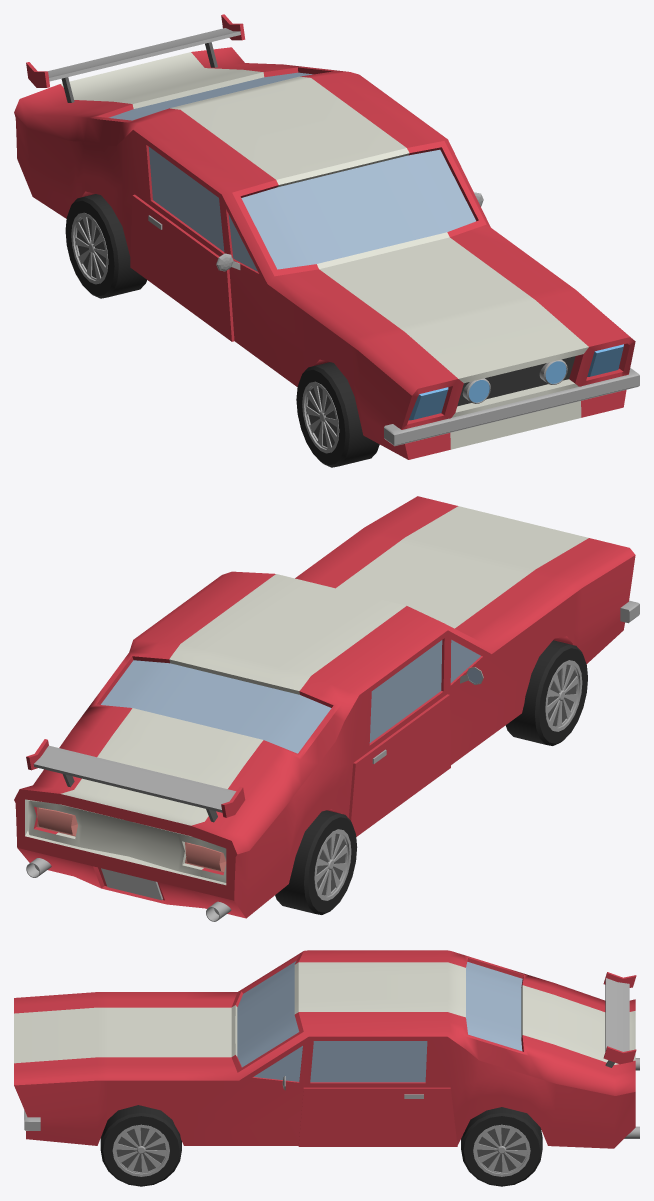
File: Car_01.fbx
The picture shows the model from 3 angles, top to bottom: view 1: azimuth 30°, elevation 25°; view 2: azimuth 150°, elevation 25°; view 3: azimuth 270°, elevation 25°; orthographic projection. The views are drawn at different scales.
Parts seen in each view (by area): view 1: Car_Merged, Tire_Front_Right, Tire_Back_Left1; view 2: Car_Merged, Tire_Back_Left1, Tire_Front_Right; view 3: Car_Merged, Tire_Front_Left, Tire_Back_Left.
Boxes of the visible parts, bbox=[...] form: Car_Merged: bbox=[14, 14, 639, 459]; Tire_Front_Right: bbox=[296, 362, 379, 467]; Tire_Back_Left1: bbox=[65, 194, 146, 298]; Car_Merged: bbox=[14, 496, 639, 921]; Tire_Back_Left1: bbox=[275, 810, 357, 914]; Tire_Front_Right: bbox=[505, 640, 587, 745]; Car_Merged: bbox=[14, 950, 639, 1148]; Tire_Front_Left: bbox=[100, 1105, 181, 1186]; Tire_Back_Left: bbox=[461, 1107, 542, 1186].
Size of the model in its own units: 4.89 by 3.45 by 12.7.
